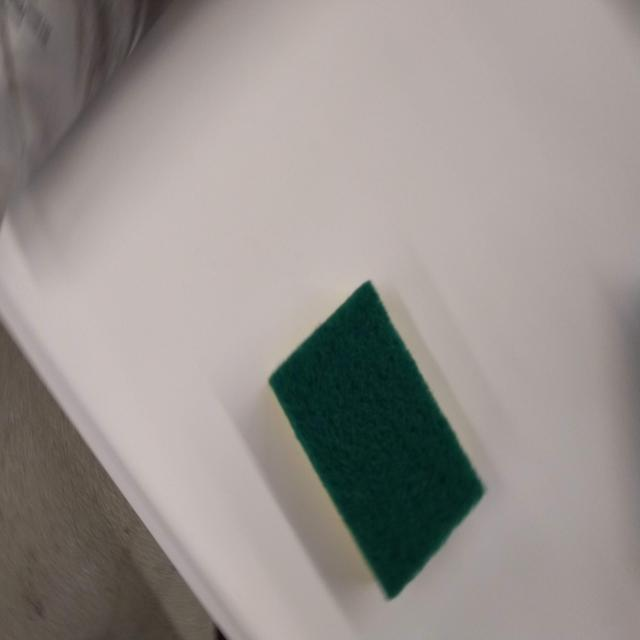scrubby: (260, 272, 493, 608)
